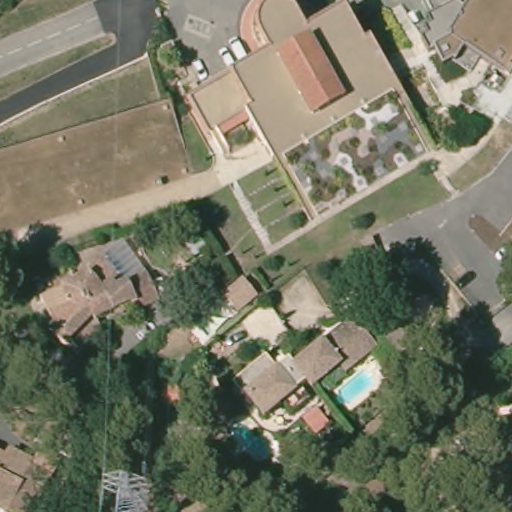pool: (329, 361, 386, 414), (223, 418, 279, 469)
